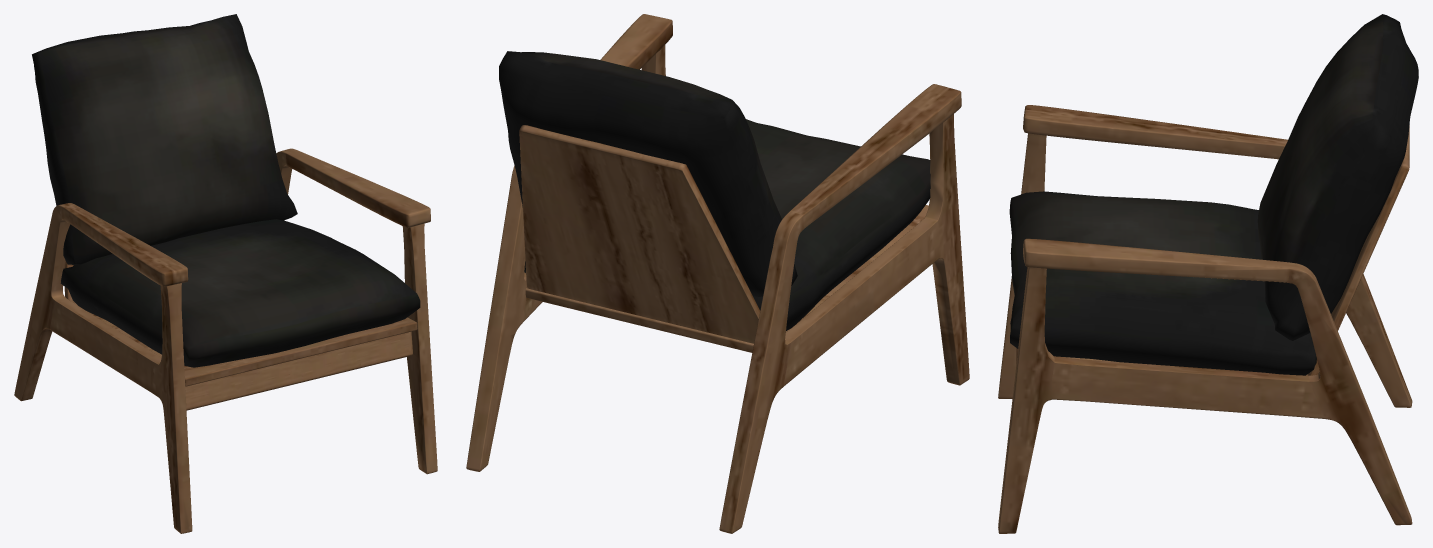
Rendered from modern_arm_chair_01.glb.
3 renders of one model, left to right at view 1: azimuth 30°, elevation 25°; view 2: azimuth 150°, elevation 25°; view 3: azimuth 270°, elevation 25°, orthographic. The views are drawn at different scales.
Parts seen in each view (by area): view 1: modern_arm_chair_01; view 2: modern_arm_chair_01; view 3: modern_arm_chair_01.
Part boxes in pixels (x1,y1,x2,y2): modern_arm_chair_01: (14,14,437,533); modern_arm_chair_01: (466,14,969,533); modern_arm_chair_01: (998,14,1418,533).
Bounding box in the file's own units: 0.8203 × 1.02 × 0.9866.
2 materials, 2 textured.
